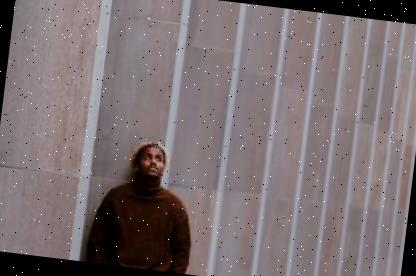person: (79, 132, 211, 276)
